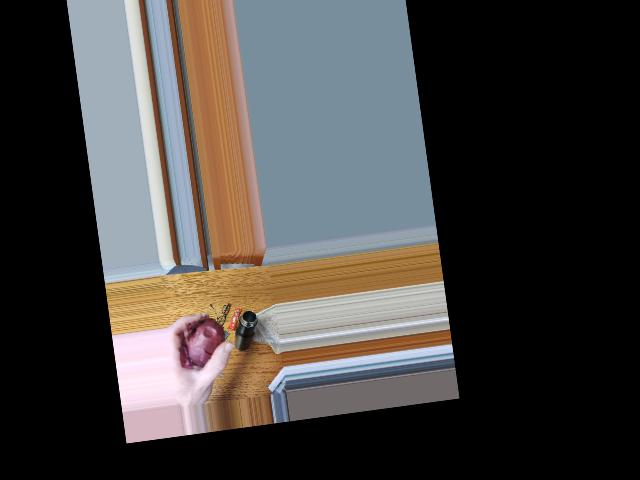onion: (179, 316, 227, 373)
